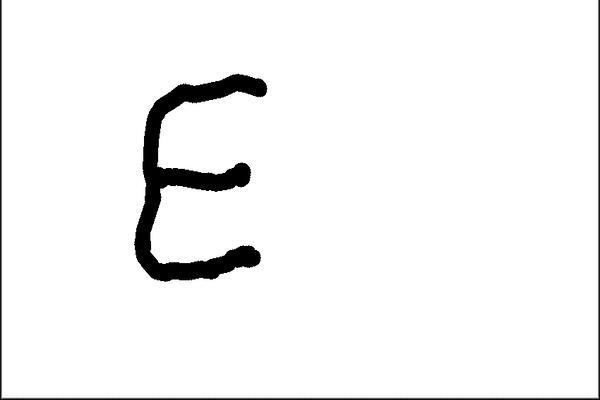E: (129, 66, 278, 289)
